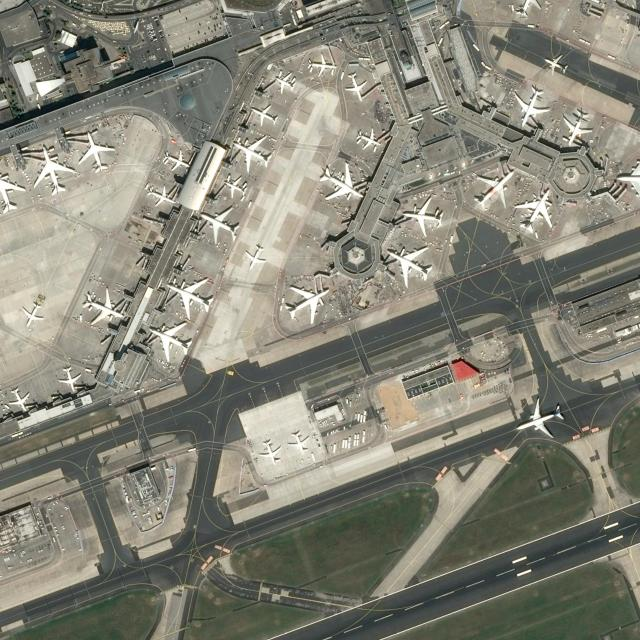1: (0, 172, 27, 214), (613, 155, 640, 196), (517, 0, 542, 16)
aircraft: (512, 393, 566, 440), (30, 142, 76, 196), (162, 276, 214, 320), (382, 242, 434, 286), (512, 184, 556, 236), (472, 164, 518, 212), (316, 160, 366, 204), (282, 282, 332, 326), (399, 193, 447, 238), (80, 283, 127, 328), (73, 126, 117, 174), (146, 318, 194, 362), (198, 204, 244, 245), (512, 82, 552, 128), (230, 133, 275, 173), (560, 106, 594, 146), (342, 69, 370, 103), (306, 49, 338, 78), (248, 101, 280, 129), (55, 364, 83, 394), (145, 182, 177, 208), (18, 299, 44, 329), (242, 241, 268, 271), (161, 148, 193, 172), (257, 436, 282, 466), (8, 384, 32, 414), (355, 125, 382, 151), (286, 428, 312, 455), (542, 50, 568, 76), (272, 70, 299, 95), (222, 175, 250, 199)
